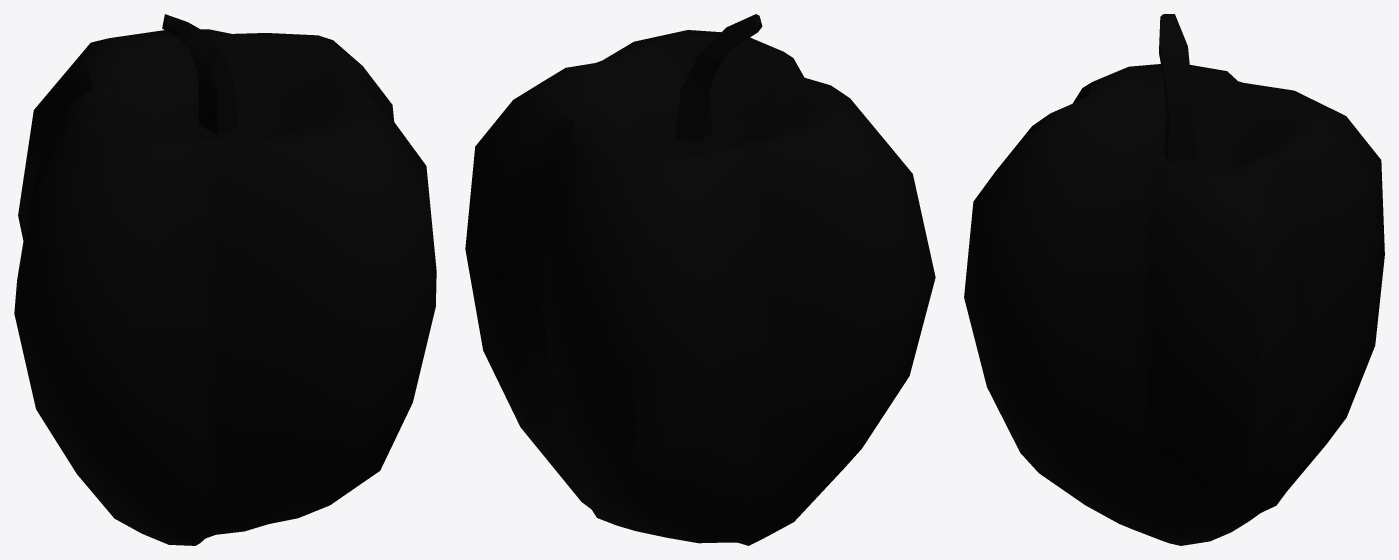
Rendered from Pepper_2_Red.fbx.
3 views of the same model, side by side, from view 1: azimuth 30°, elevation 25°; view 2: azimuth 150°, elevation 25°; view 3: azimuth 270°, elevation 25° (orthographic). The views are drawn at different scales.
Parts seen in each view (by area): view 1: Pepper_2_Red; view 2: Pepper_2_Red; view 3: Pepper_2_Red.
Part boxes in pixels (x1=…): Pepper_2_Red: x1=14, y1=14, x2=436, y2=545; Pepper_2_Red: x1=465, y1=14, x2=935, y2=545; Pepper_2_Red: x1=964, y1=14, x2=1384, y2=545.
Size of the model in its own units: 3.02 by 3.73 by 3.01.
